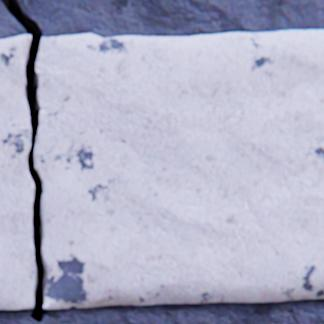broken_brick: (34, 31, 323, 309), (0, 36, 35, 309)
crack: (0, 0, 47, 322)
